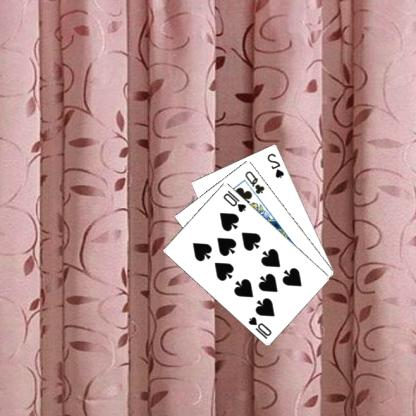10S: (222, 187, 250, 214), (247, 314, 275, 340)
2S: (266, 150, 287, 180)
QC: (244, 168, 268, 196)
